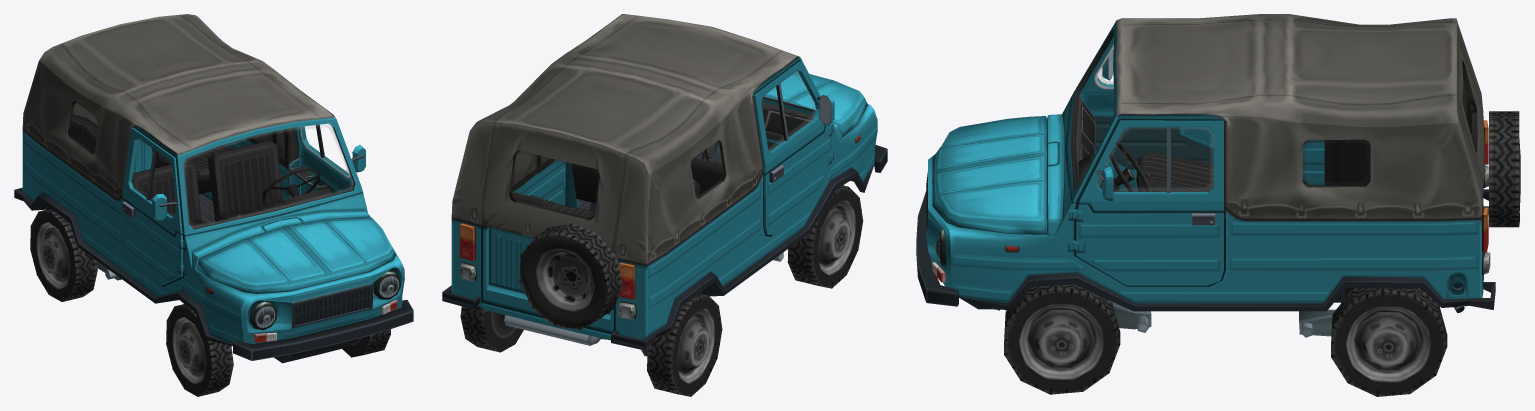
The picture shows the model from 3 angles, left to right: view 1: azimuth 30°, elevation 25°; view 2: azimuth 150°, elevation 25°; view 3: azimuth 270°, elevation 25°; orthographic projection. The views are drawn at different scales.
Visible parts, largest first — view 1: body, door_R, wheel_RR, wheel_FR, door_L, wheel_FL; view 2: body, door_R, wheel_RR, wheel_FR, wheel_RL; view 3: body, door_L, wheel_RL, wheel_FL, door_R.
Part boxes in pixels (x1=…): body: x1=14, y1=14, x2=413, y2=363; door_R: x1=122, y1=127, x2=183, y2=285; wheel_RR: x1=30, y1=208, x2=97, y2=301; wheel_FR: x1=166, y1=304, x2=233, y2=396; door_L: x1=290, y1=119, x2=365, y2=194; wheel_FL: x1=342, y1=329, x2=390, y2=357; body: x1=442, y1=14, x2=887, y2=356; door_R: x1=753, y1=61, x2=834, y2=234; wheel_RR: x1=647, y1=293, x2=722, y2=396; wheel_FR: x1=787, y1=185, x2=863, y2=288; wheel_RL: x1=460, y1=306, x2=523, y2=352; body: x1=916, y1=14, x2=1520, y2=337; door_L: x1=1076, y1=120, x2=1223, y2=285; wheel_RL: x1=1331, y1=288, x2=1447, y2=396; wheel_FL: x1=1004, y1=284, x2=1120, y2=394; door_R: x1=1079, y1=36, x2=1213, y2=176.
Bounding box in the file's own units: 1.72 × 1.81 × 3.42.
Materials: 2 (2 with a texture image).
